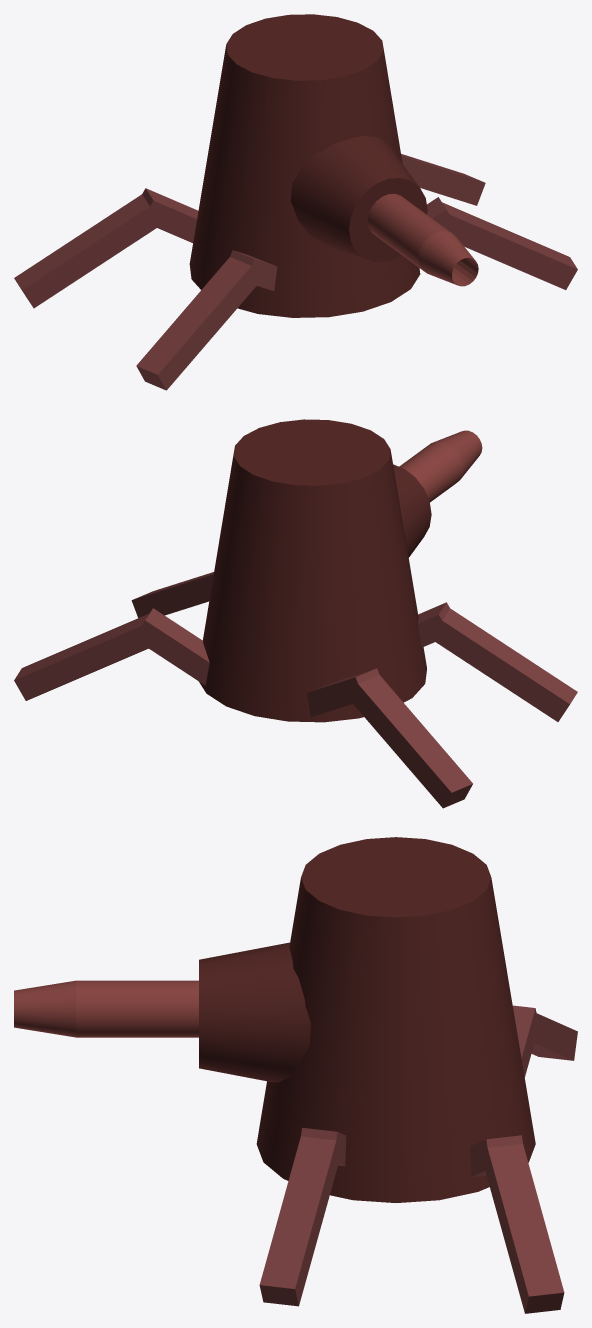
Rendered from Enemy Ranged.fbx.
3 views of the same model, one above another, from view 1: azimuth 30°, elevation 25°; view 2: azimuth 150°, elevation 25°; view 3: azimuth 270°, elevation 25° (orthographic). The views are drawn at different scales.
Parts seen in each view (by area): view 1: pCylinder8, pCylinder10, pCube23, pCube29, pCylinder11, pCube22, pCube24, pCube28, pCube26, pCube27; view 2: pCylinder8, pCube29, pCube23, pCube24, pCylinder11, pCube25, pCylinder10, pCube22, pCube28, pCube26; view 3: pCylinder8, pCylinder10, pCylinder11, pCube24, pCube22, pCube29, pCube28, pCube25, pCube27.
Boxes of the visible parts, x1,y1,x2,y2 form: pCylinder8: (189, 14, 420, 317); pCylinder10: (290, 135, 427, 262); pCube23: (136, 257, 256, 390); pCube29: (14, 194, 166, 308); pCylinder11: (367, 193, 478, 286); pCube22: (441, 202, 577, 289); pCube24: (401, 154, 485, 205); pCube28: (142, 188, 198, 242); pCube26: (230, 250, 277, 290); pCube27: (427, 197, 457, 231); pCylinder8: (199, 419, 426, 722); pCube29: (345, 675, 472, 808); pCube23: (425, 608, 577, 721); pCube24: (14, 613, 158, 700); pCylinder11: (399, 430, 482, 502); pCube25: (134, 608, 209, 685); pCylinder10: (393, 464, 431, 557); pCube22: (131, 572, 213, 617); pCube28: (307, 668, 379, 716); pCube26: (417, 602, 449, 647); pCylinder8: (256, 837, 535, 1202); pCylinder10: (199, 942, 310, 1082); pCylinder11: (14, 980, 198, 1037); pCube24: (482, 1142, 564, 1313); pCube22: (259, 1136, 341, 1306); pCube29: (531, 1013, 577, 1060); pCube28: (513, 1005, 539, 1077); pCube25: (470, 1135, 522, 1176); pCube27: (301, 1127, 346, 1166).
Bounding box in the file's own units: 307 × 162 × 272.
